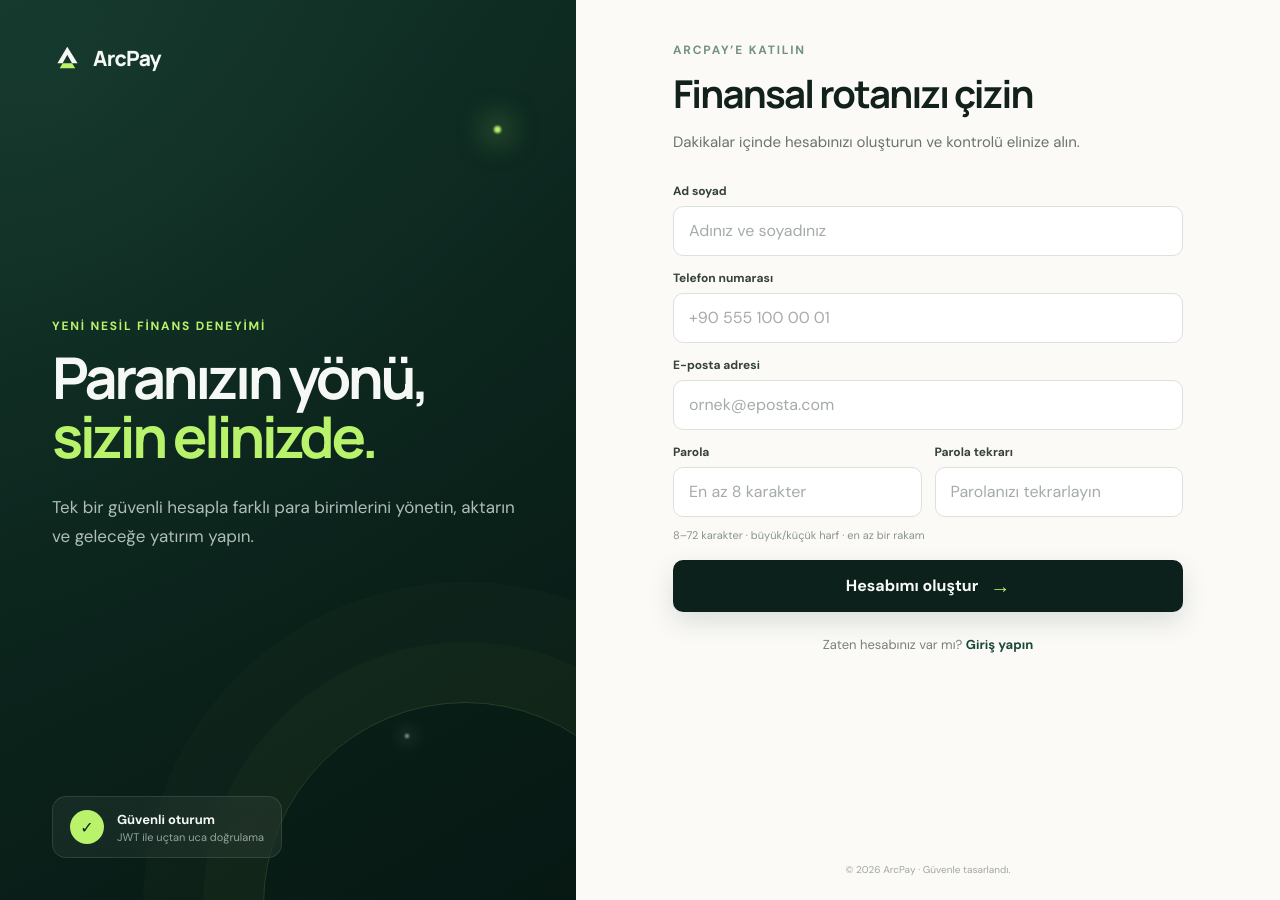
Test case: ArcPay authentication flow › keeps registration client-side when passwords do not match
The width and height of the screenshot is (1280, 900).
Type "Ada Lovelace" into the field labelled "Ad soyad".
click(928, 231); type("Ada Lovelace")  # box [673,206,1183,256]
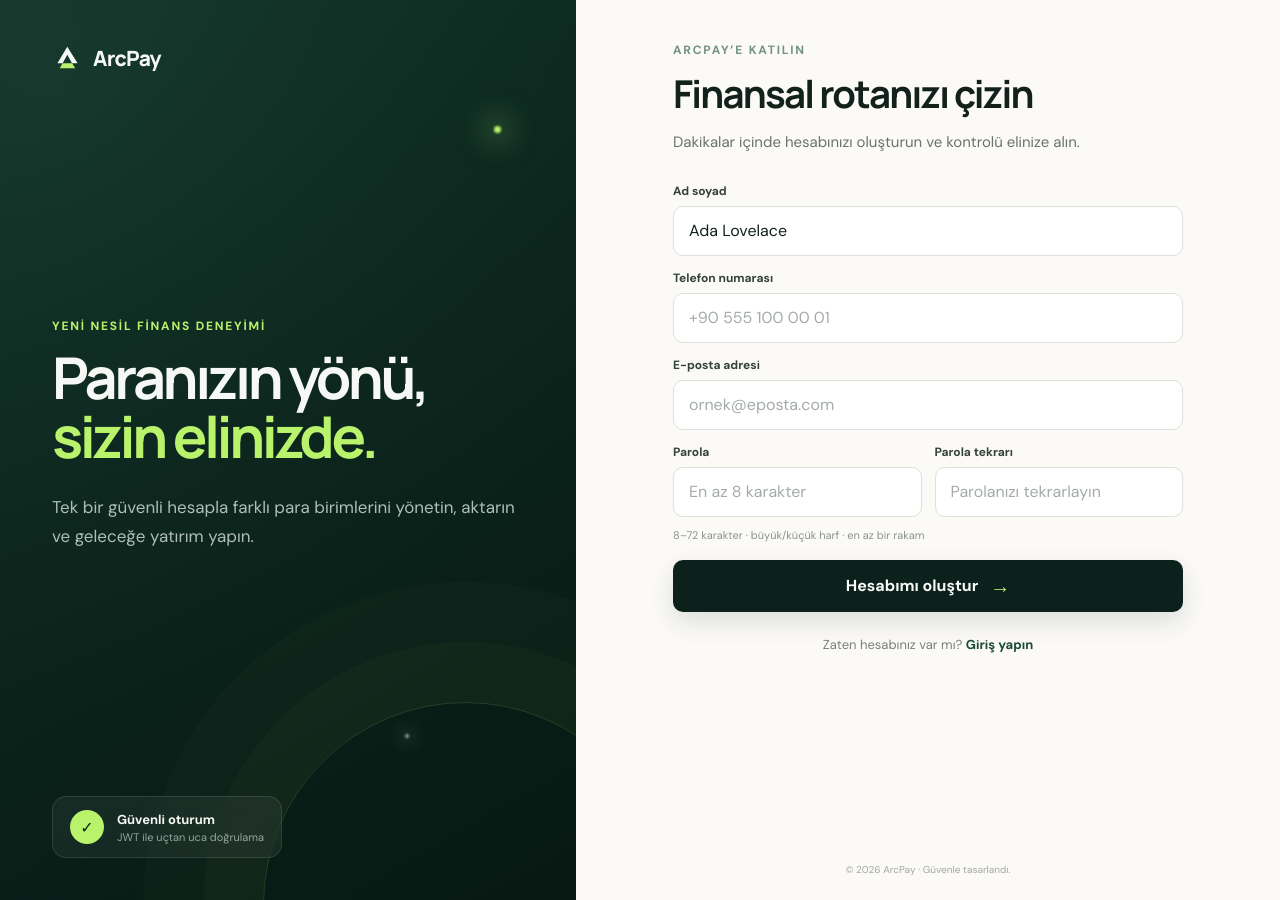
Type "ada@arcpay.test" into the field labelled "E-posta adresi".
click(928, 405); type("ada@arcpay.test")  # box [673,380,1183,430]
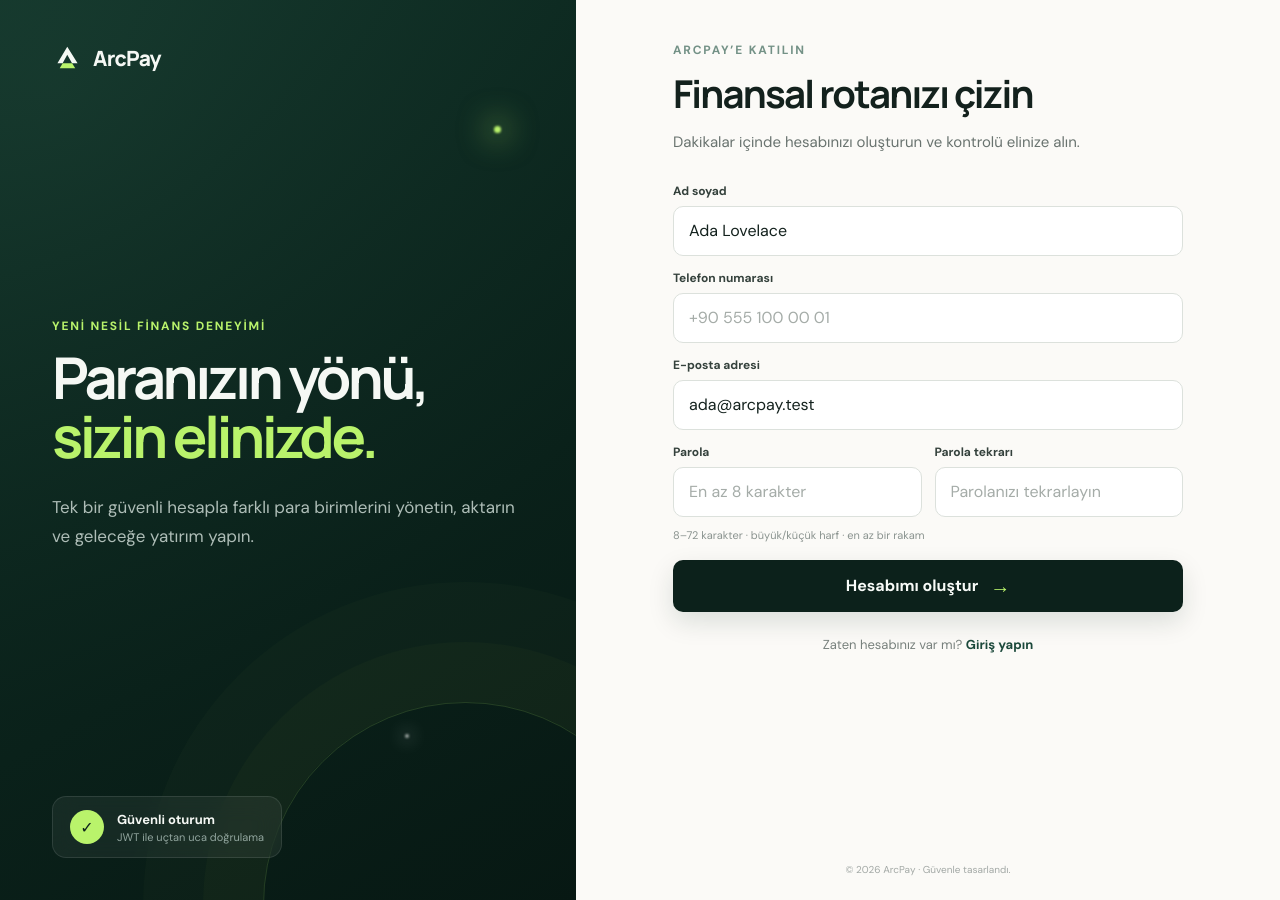
Type "SecurePass1" into the password field labelled "Parola".
click(797, 492); type("SecurePass1")  # box [673,467,922,517]
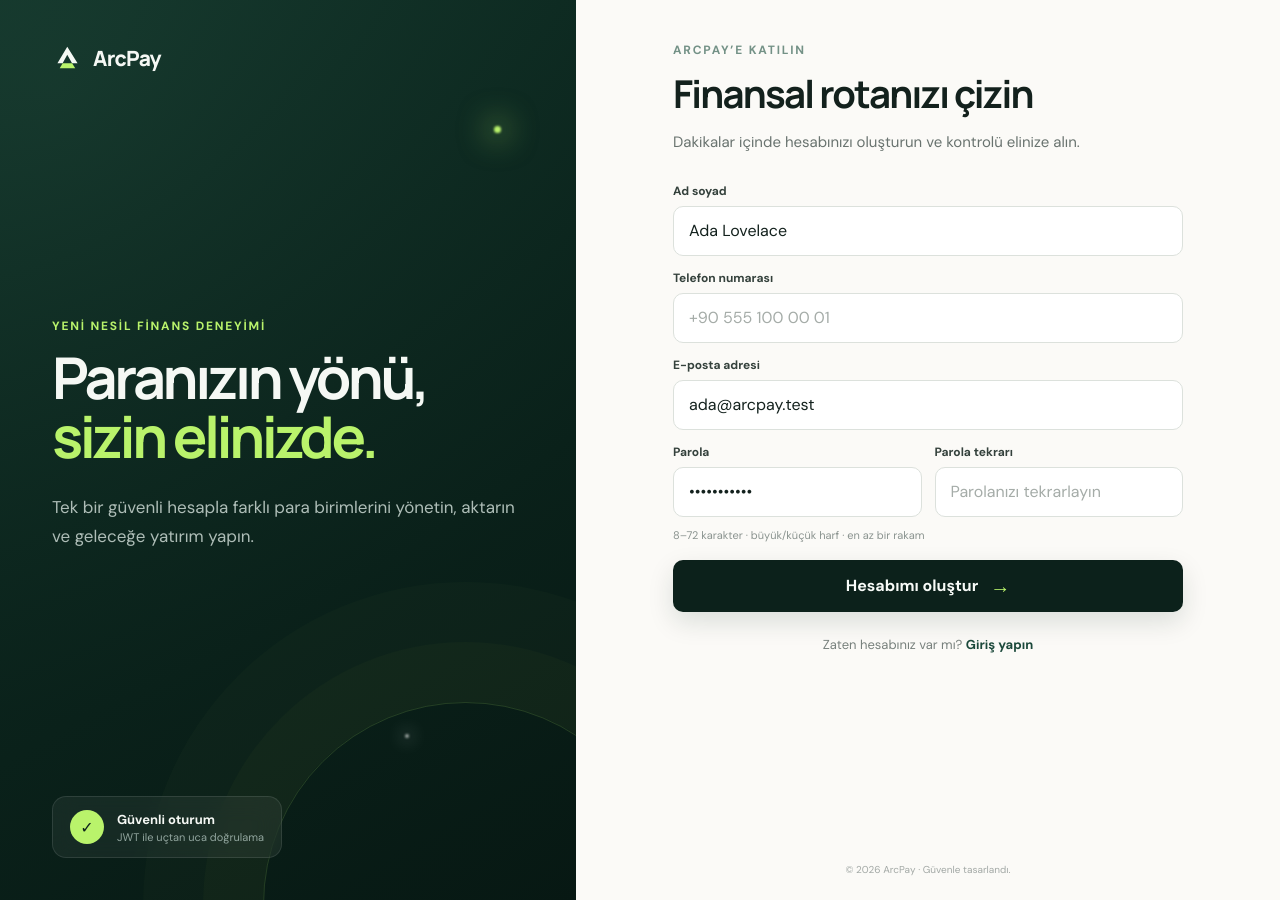
Type "DifferentPass1" into the password field labelled "Parola tekrarı".
click(1059, 492); type("DifferentPass1")  # box [934,467,1183,517]
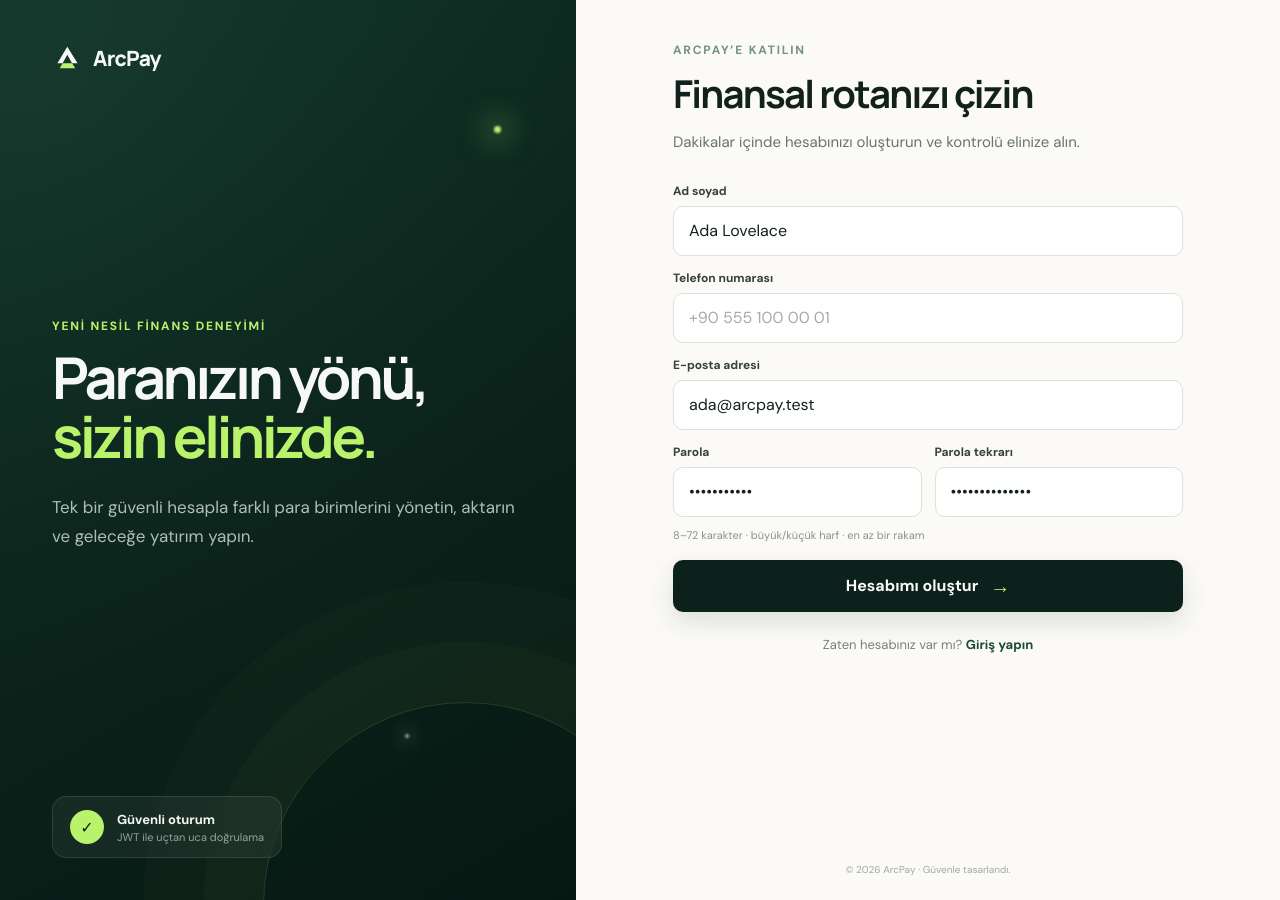
Click the button "Hesabımı oluştur →".
click(928, 586)  # box [673,560,1183,612]
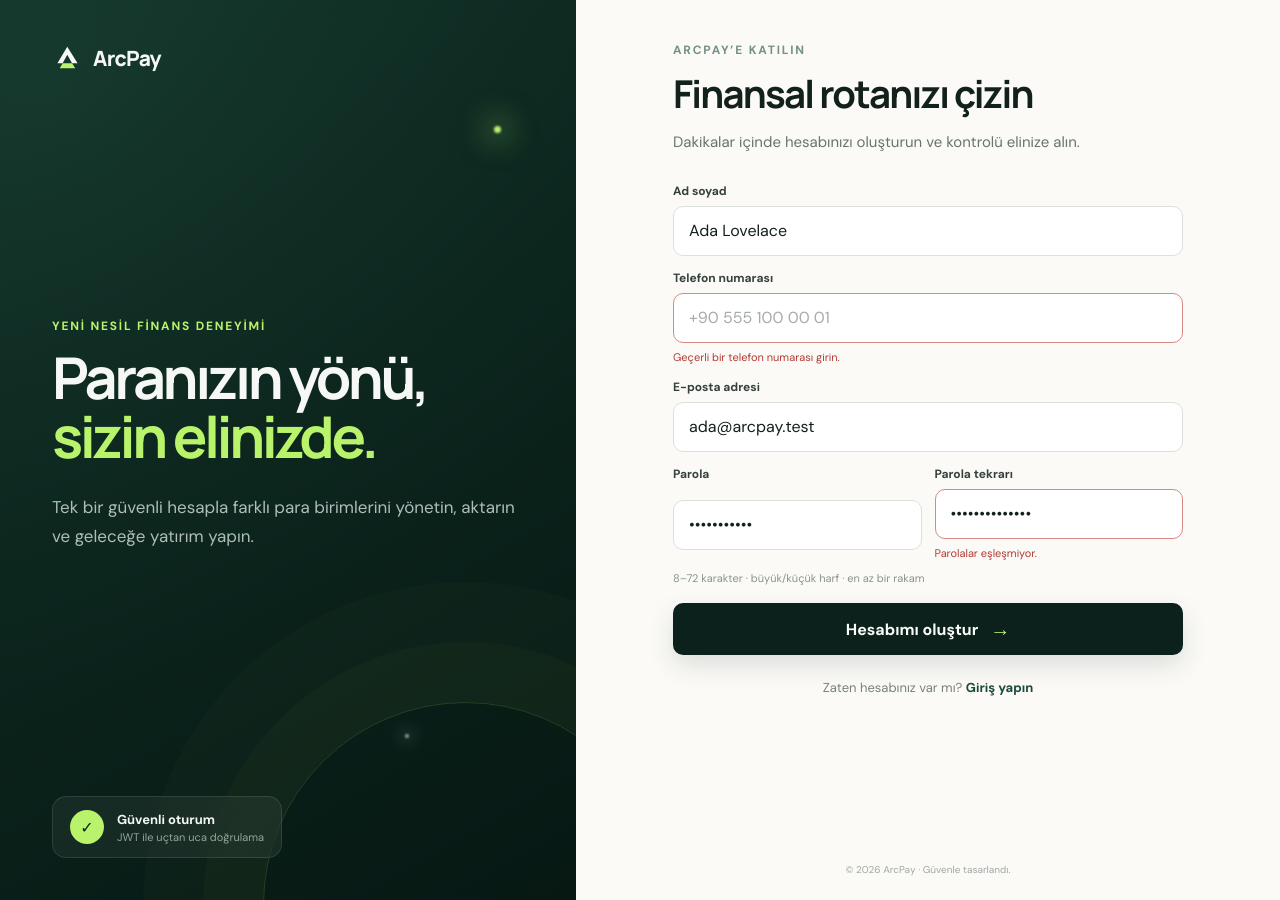
expect the text "Parolalar eşleşmiyor." is shown: met, box [934,546,1037,560]
